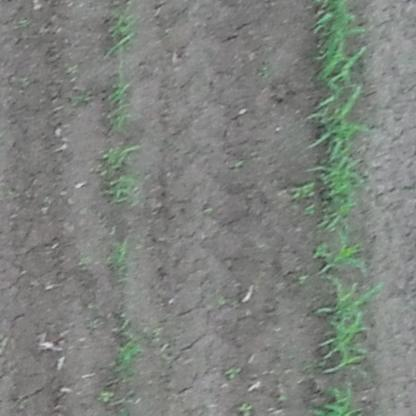corn: (316, 1, 380, 228), (326, 276, 386, 372), (311, 234, 373, 271), (105, 80, 136, 135), (316, 383, 367, 412), (108, 329, 143, 370), (106, 11, 139, 54), (106, 229, 135, 274), (107, 170, 139, 202), (106, 142, 143, 164)
